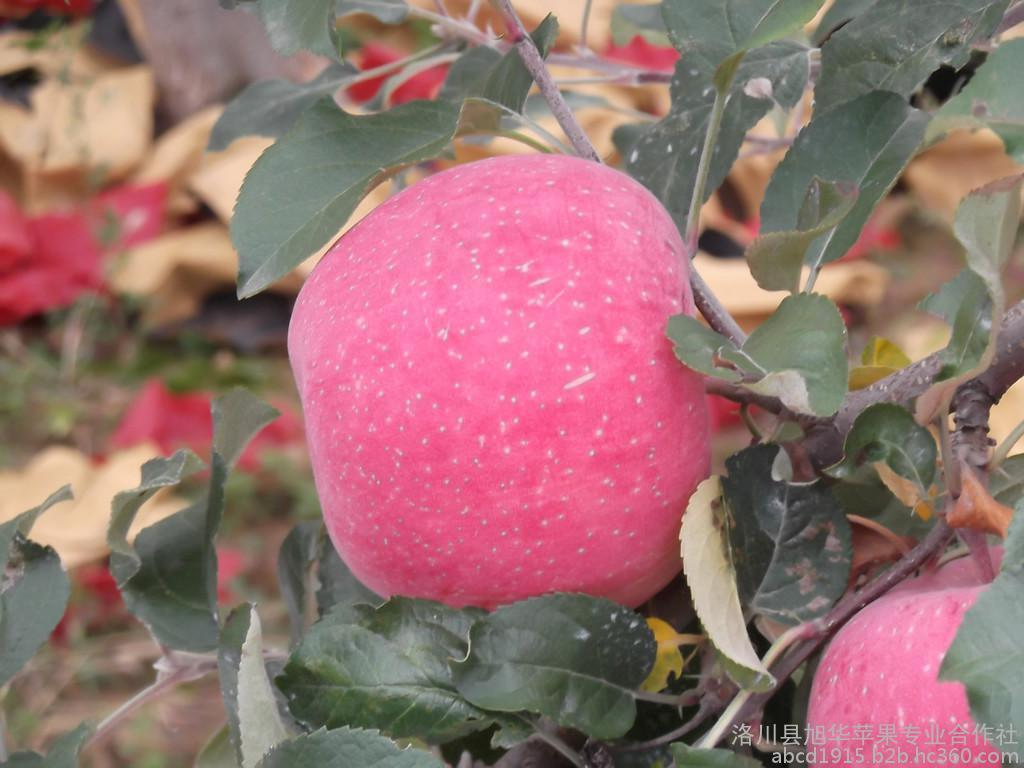apple: (287, 160, 731, 626)
